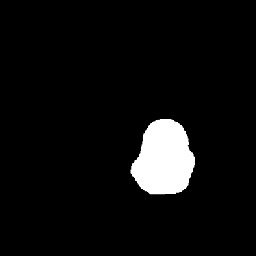mass: (135, 122, 196, 197)
